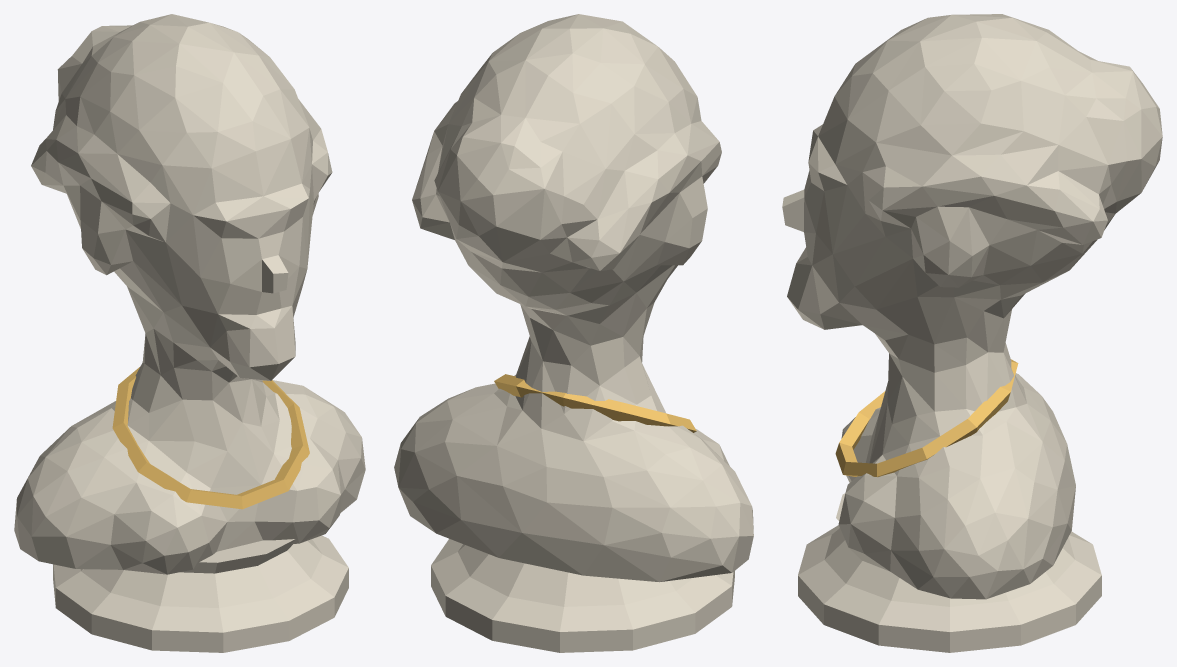
File: busto_dama.glb
3 renders of one model, left to right at view 1: azimuth 30°, elevation 25°; view 2: azimuth 150°, elevation 25°; view 3: azimuth 270°, elevation 25°, orthographic. The views are drawn at different scales.
Visible parts, largest first — view 1: busto_dama; view 2: busto_dama; view 3: busto_dama.
Part boxes in pixels (<box>): busto_dama: <box>14,14,365,652</box>; busto_dama: <box>394,14,753,652</box>; busto_dama: <box>782,14,1162,652</box>.
Bounding box in the file's own units: 0.2072 × 0.3271 × 0.1988.
